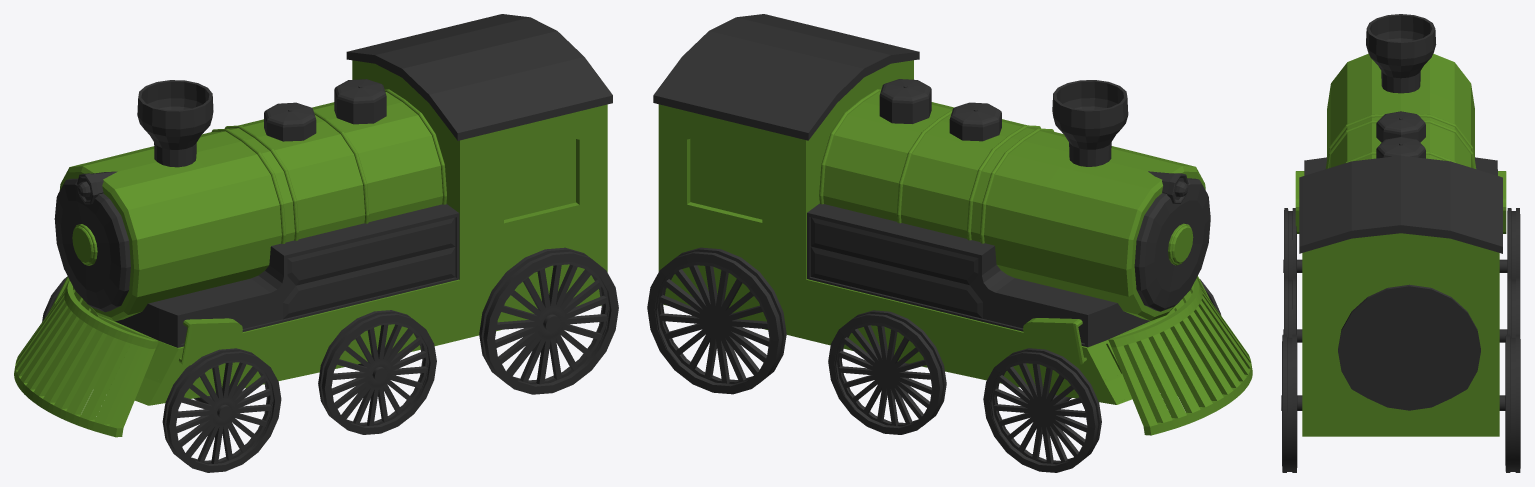
The model's file is GreenTrain.fbx.
3 views of the same model, side by side, from view 1: azimuth 30°, elevation 25°; view 2: azimuth 150°, elevation 25°; view 3: azimuth 270°, elevation 25° (orthographic). The views are drawn at different scales.
Parts seen in each view (by area): view 1: engine.001; view 2: engine.001; view 3: engine.001.
Part boxes in pixels (x1,y1,x2,y2): engine.001: (14,14,618,472); engine.001: (647,14,1252,472); engine.001: (1281,14,1520,472).
Bounding box in the file's own units: 12.03 × 7.17 × 5.2.
1 material, 1 textured.
